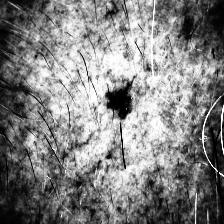Benign Marking or Mole: (105, 84, 134, 120)
